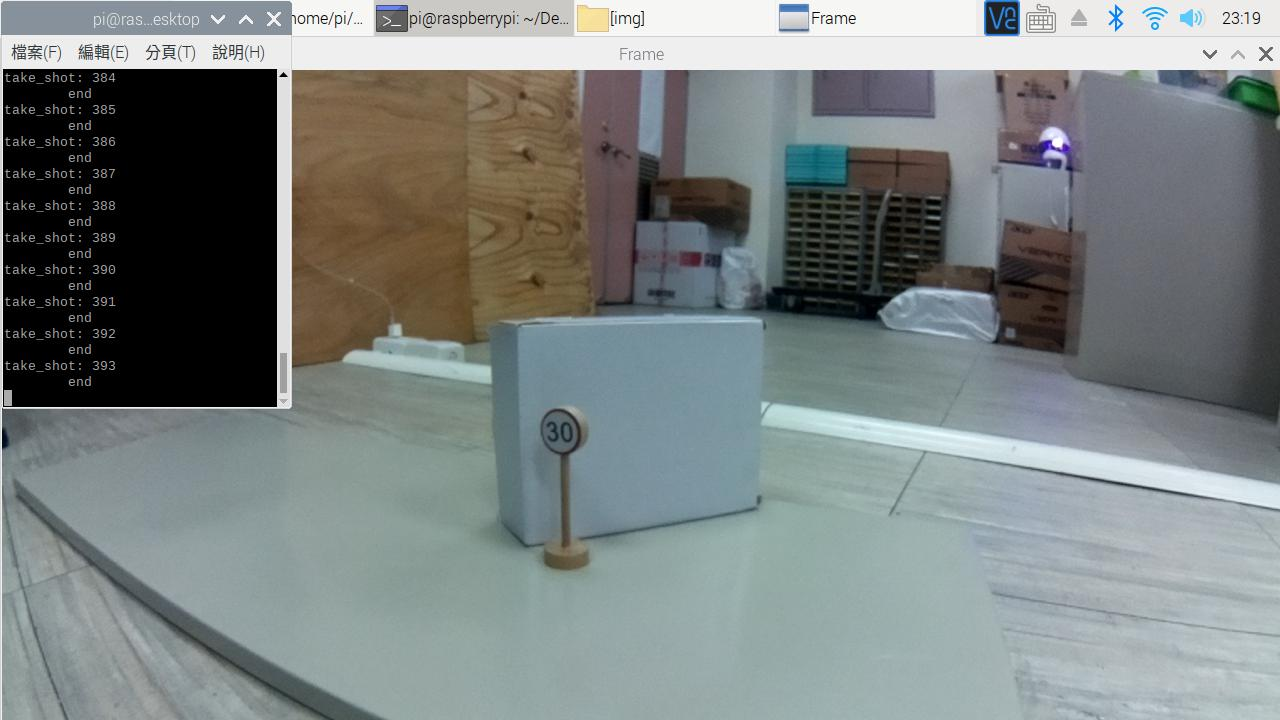Speed30: (532, 403, 590, 469)
